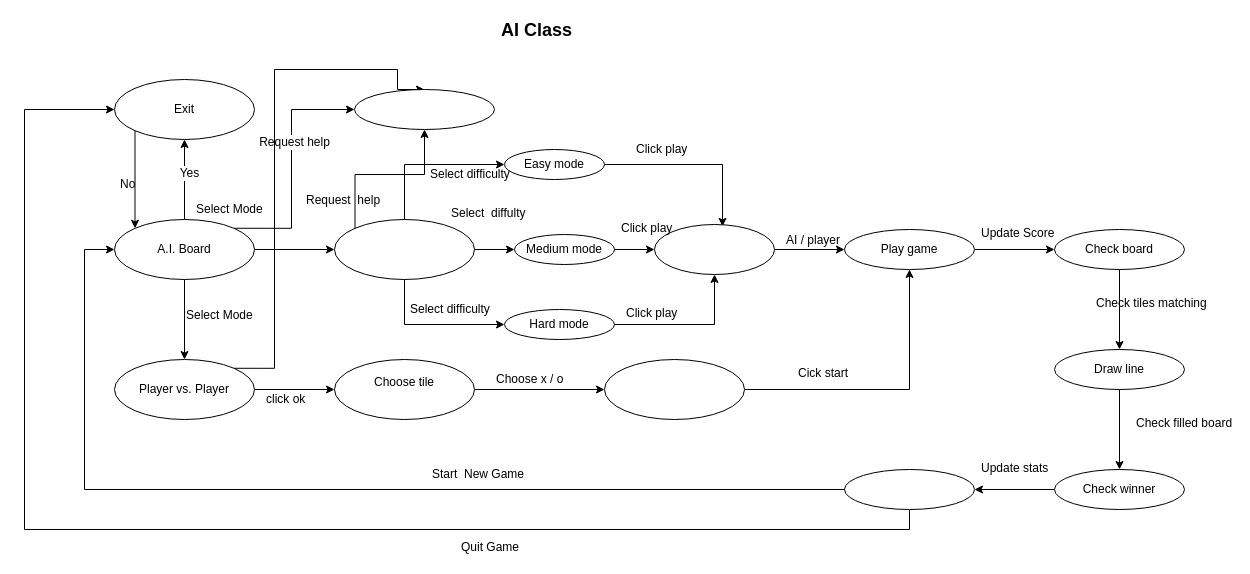
This 1250x574 diagram has some shape labels left out. Here are the shapes that lost their labels. From the top down, the centre of each, then its label:
At (x=424, y=109): "Help".
At (x=404, y=249): "A.I. mode".
At (x=714, y=249): "Select who goes first".
At (x=674, y=389): "Choose first player".
At (x=909, y=489): "Start new game / quit".
